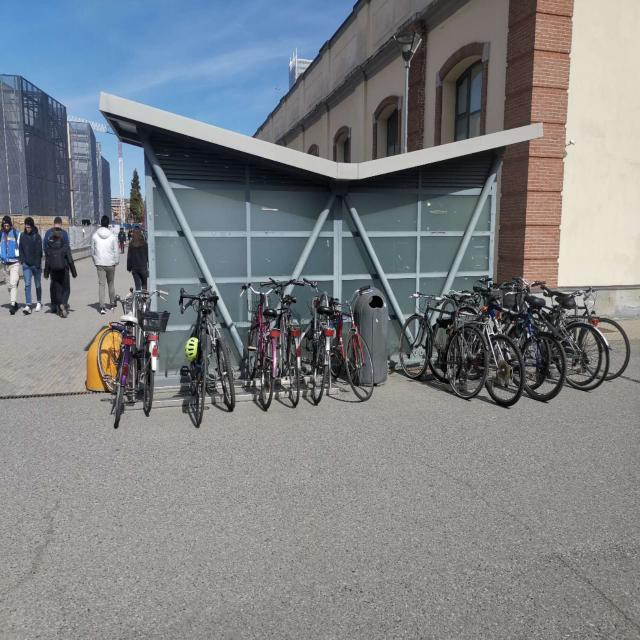Bicycle: (480, 261, 562, 401), (400, 285, 486, 416), (449, 274, 525, 401), (80, 276, 135, 444), (324, 258, 380, 401), (560, 279, 634, 380), (132, 272, 168, 428), (174, 278, 207, 435), (300, 273, 337, 410), (204, 275, 234, 443), (245, 278, 273, 412), (274, 274, 298, 418)
